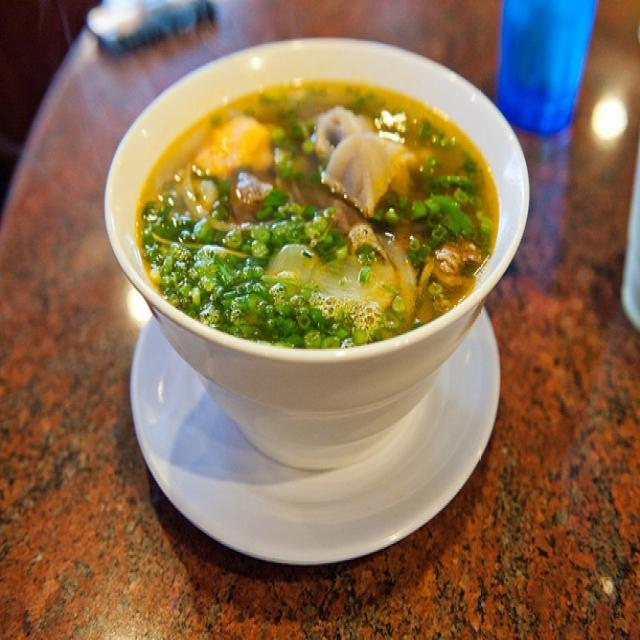汤锅炖物: (81, 48, 564, 506)
